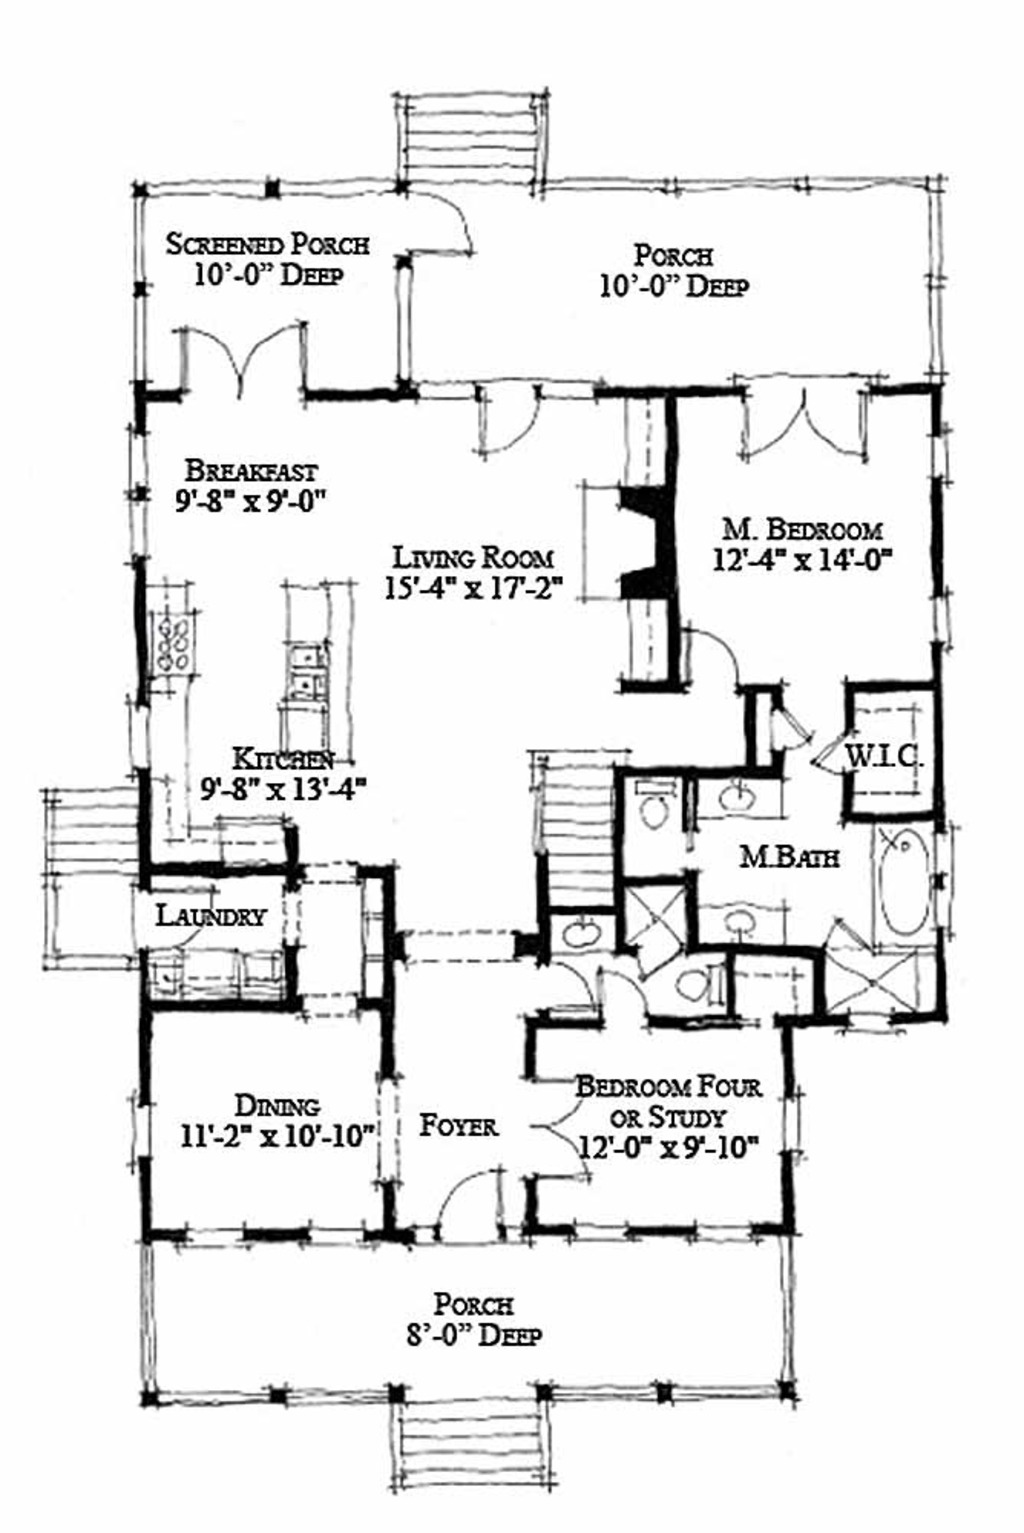door: (731, 374, 867, 461), (175, 323, 311, 409), (459, 374, 545, 458), (427, 1171, 507, 1243)
stairs: (389, 1387, 552, 1496), (519, 746, 629, 900), (395, 87, 547, 194)
